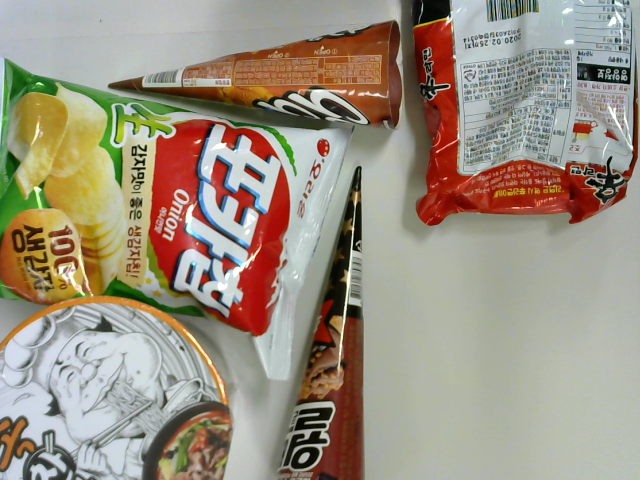GooGoo_Cone_CVS: (105, 20, 412, 136)
Hejangchan: (1, 297, 243, 477)
Pocachip_Onion: (1, 57, 358, 385)
Sinramen: (401, 1, 632, 230)
World_Cone_Choco: (267, 162, 379, 480)
